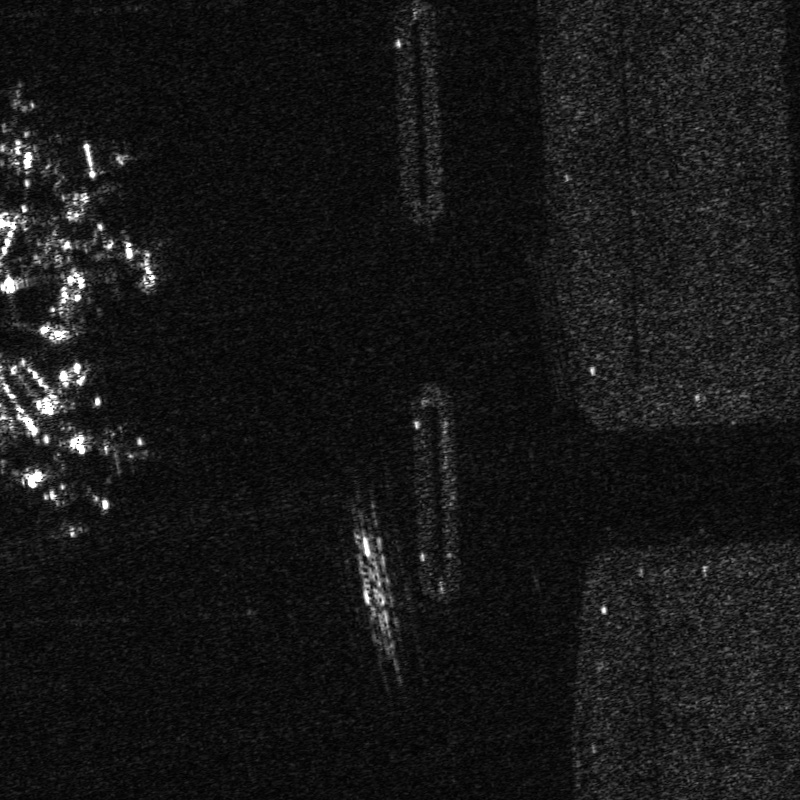A320/321: (1, 84, 78, 180), (58, 416, 162, 477)
Boeing737: (9, 462, 119, 525)
